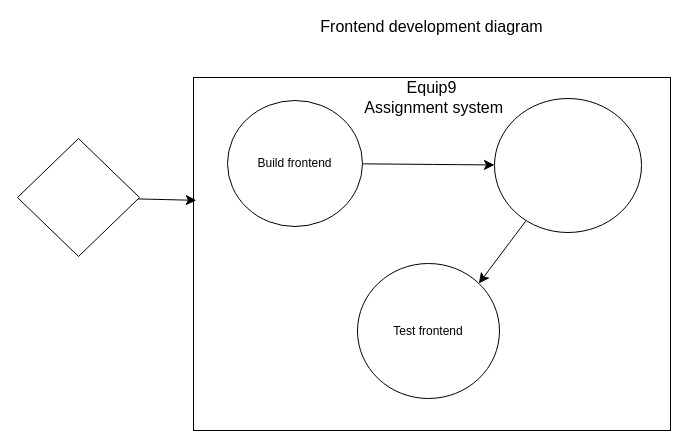
Image size: 688x448. Some labels were removed from this diagram. The centre of each missing label's shape, as x and y in pixels:
"Code registration page" goes at (568,165).
"Developer/User" goes at (78,197).
